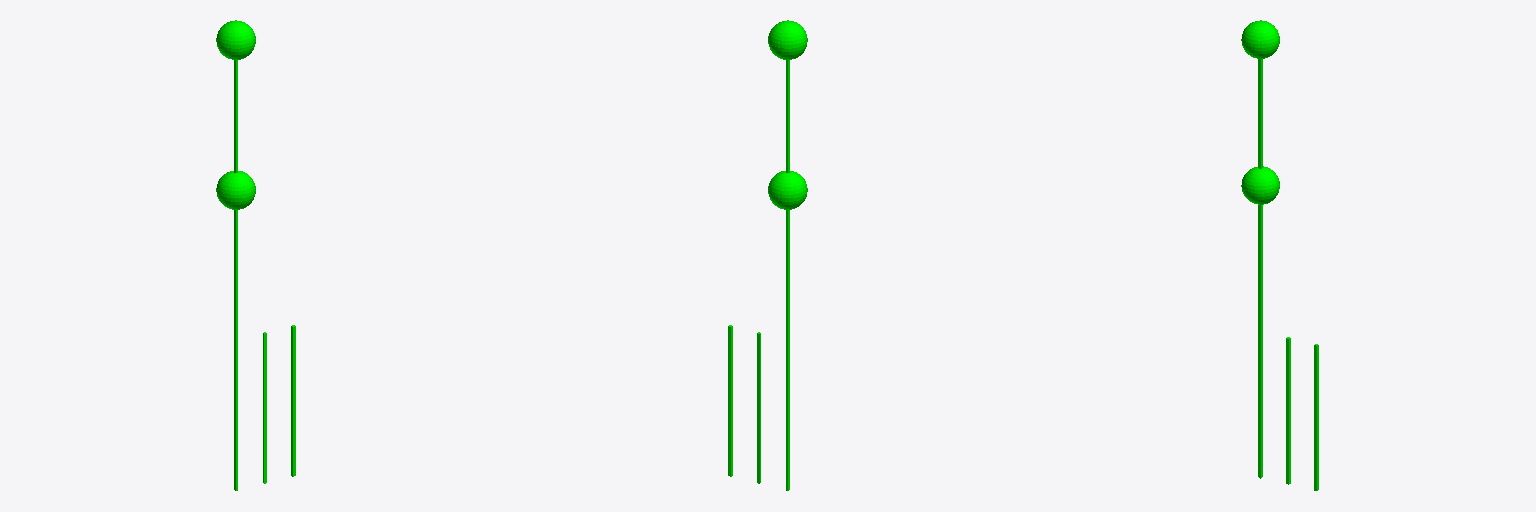
robot.urdf — pendulum:
<?xml version="1.0" ?>
<robot name="pendulum">
    <link name="world">
        <visual>
            <origin xyz="0 0 0" rpy="0 0 0" />
            <geometry>
                <sphere radius="0.005"/>
            </geometry>
            <material name="">
                <color rgba="0.0 1.0 0.0 0.4"/>
            </material>
        </visual>
        <inertial>
            <origin xyz="0.0 0.0 0.0" rpy="0.0 0.0 0.0"/>
            <mass value="1000.0"/>
            <inertia ixx="0.0" ixy="0.0" ixz="0.0" iyy="0.0" iyz="0.0" izz="0.0"/>
        </inertial>
    </link>

    <joint name="PendulumJoint" type="revolute">
      <origin xyz="0.0 0.0 0.0" rpy="0 0 0"/>
      <axis xyz="1 0 0"/>
      <parent link="world"/>
      <child link="PendulumArm"/>
      <limit effort="1000" velocity="0" lower="-1000" upper="1000"/>
    </joint>

    <link name="PendulumArm">
        <visual>
            <origin xyz="0 0 0.5" rpy="0 0 0" />
            <geometry>
                <box size="0.01 0.01 1.0"/>
            </geometry>
            <material name="">
                <color rgba="0.0 1.0 0.0 0.4"/>
            </material>
        </visual>
        <inertial>
            <origin xyz="0.0 0.0 0.0" rpy="0.0 0.0 0.0"/>
            <mass value="0.0"/>
            <inertia ixx="0.0" ixy="0.0" ixz="0.0" iyy="0.0" iyz="0.0" izz="0.0"/>
        </inertial>
    </link>


    <joint name="PendulumMassJoint" type="fixed">
      <origin xyz="0.0 0.0 1.0" rpy="0 0 0"/>
      <parent link="PendulumArm"/>
      <child link="PendulumMass"/>
    </joint>
    <link name="PendulumMass">
        <visual>
            <origin xyz="0 0 0" rpy="0 0 0" />
            <geometry>
                <sphere radius="0.06"/>
            </geometry>
            <material name="">
                <color rgba="0.0 1.0 0.0 0.4"/>
            </material>
        </visual>
        <inertial>
            <origin xyz="0 0.0 0.0" rpy="0.0 0.0 0.0"/>
            <mass value="1.0"/>
            <inertia ixx="0.0" ixy="0.0" ixz="0.0" iyy="0.0" iyz="0.0" izz="0.0"/>
        </inertial>
    </link>

    <joint name="SecondPendulumJoint" type="revolute">
      <origin xyz="0.0 0.0 0.0" rpy="0 0 0"/>
      <axis xyz="1 0 0"/>
      <parent link="PendulumMass"/>
      <child link="SecondPendulumArm"/>
      <limit effort="1000" velocity="0" lower="-1000" upper="1000"/>
    </joint>

    <link name="SecondPendulumArm">
        <visual>
            <origin xyz="0 0 0.25" rpy="0 0 0" />
            <geometry>
                <box size="0.01 0.01 0.5"/>
            </geometry>
            <material name="">
                <color rgba="0.0 1.0 0.0 0.4"/>
            </material>
        </visual>
        <inertial>
            <origin xyz="0.0 0.0 0.0" rpy="0.0 0.0 0.0"/>
            <mass value="0.0"/>
            <inertia ixx="0.0" ixy="0.0" ixz="0.0" iyy="0.0" iyz="0.0" izz="0.0"/>
        </inertial>
    </link>


    <joint name="SecondPendulumMassJoint" type="fixed">
      <origin xyz="0.0 0.0 0.5" rpy="0 0 0"/>
      <parent link="SecondPendulumArm"/>
      <child link="SecondPendulumMass"/>
    </joint>
    <link name="SecondPendulumMass">
        <visual>
            <origin xyz="0 0 0" rpy="0 0 0" />
            <geometry>
                <sphere radius="0.06"/>
            </geometry>
            <material name="">
                <color rgba="0.0 1.0 0.0 0.4"/>
            </material>
        </visual>
        <inertial>
            <origin xyz="0 0.0 0.0" rpy="0.0 0.0 0.0"/>
            <mass value="1.0"/>
            <inertia ixx="0.0" ixy="0.0" ixz="0.0" iyy="0.0" iyz="0.0" izz="0.0"/>
        </inertial>
    </link>
    <joint name="SecondBranchFirstJoint" type="revolute">
      <origin xyz="0.1 0.0 0.0" rpy="0 0 0"/>
      <axis xyz="1 0 0"/>
      <parent link="PendulumArm"/>
      <child link="SecondBranchFirstArm"/>
      <limit effort="1000" velocity="0" lower="-1000" upper="1000"/>
    </joint>
    <link name="SecondBranchFirstArm">
        <visual>
            <origin xyz="0 0 0.25" rpy="0 0 0" />
            <geometry>
                <box size="0.01 0.01 0.5"/>
            </geometry>
            <material name="">
                <color rgba="0.0 1.0 0.0 0.4"/>
            </material>
        </visual>
        <inertial>
            <origin xyz="0.0 0.0 0.0" rpy="0.0 0.0 0.0"/>
            <mass value="0.0"/>
            <inertia ixx="0.0" ixy="0.0" ixz="0.0" iyy="0.0" iyz="0.0" izz="0.0"/>
        </inertial>
    </link>
    <joint name="SecondBranchSecondJoint" type="revolute">
      <origin xyz="0.1 0.0 0.0" rpy="0 0 0"/>
      <axis xyz="1 0 0"/>
      <parent link="SecondBranchFirstArm"/>
      <child link="SecondBranchSecondArm"/>
      <limit effort="1000" velocity="0" lower="-1000" upper="1000"/>
    </joint>
    <link name="SecondBranchSecondArm">
        <visual>
            <origin xyz="0 0 0.25" rpy="0 0 0" />
            <geometry>
                <box size="0.01 0.01 0.5"/>
            </geometry>
            <material name="">
                <color rgba="0.0 1.0 0.0 0.4"/>
            </material>
        </visual>
        <inertial>
            <origin xyz="0.0 0.0 0.0" rpy="0.0 0.0 0.0"/>
            <mass value="0.0"/>
            <inertia ixx="0.0" ixy="0.0" ixz="0.0" iyy="0.0" iyz="0.0" izz="0.0"/>
        </inertial>
    </link>
</robot>

--- Render facts (derived) ---
3 views of the same robot in one strip: view 1: azimuth 30°, elevation 25°; view 2: azimuth 150°, elevation 25°; view 3: azimuth 330°, elevation 25° (orthographic).
Robot: pendulum — 7 links, 6 joints (4 revolute, 2 fixed); root link world; default pose: every joint at zero.
Links seen in each view (by area): view 1: SecondPendulumMass, PendulumMass, PendulumArm, SecondBranchSecondArm, SecondBranchFirstArm; view 2: SecondPendulumMass, PendulumMass, PendulumArm, SecondBranchSecondArm, SecondBranchFirstArm; view 3: PendulumArm, SecondPendulumMass, PendulumMass, SecondBranchFirstArm, SecondBranchSecondArm, SecondPendulumArm.
Boxes of the visible links, x1,y1,x2,y2 form: SecondPendulumMass: (216, 20, 255, 59); PendulumMass: (216, 171, 255, 209); PendulumArm: (234, 210, 237, 490); SecondBranchSecondArm: (291, 325, 295, 476); SecondBranchFirstArm: (263, 332, 266, 483); SecondPendulumMass: (768, 20, 807, 59); PendulumMass: (768, 171, 807, 209); PendulumArm: (786, 210, 789, 490); SecondBranchSecondArm: (728, 325, 732, 476); SecondBranchFirstArm: (757, 332, 760, 483); PendulumArm: (1258, 205, 1262, 477); SecondPendulumMass: (1241, 20, 1279, 58); PendulumMass: (1241, 166, 1279, 204); SecondBranchFirstArm: (1286, 337, 1290, 484); SecondBranchSecondArm: (1314, 344, 1318, 490); SecondPendulumArm: (1258, 59, 1262, 168).
Size in the robot's own frame: 0.265 by 0.12 by 1.56 metres.
Geometry: primitives only (box / cylinder / sphere), no mesh files.
